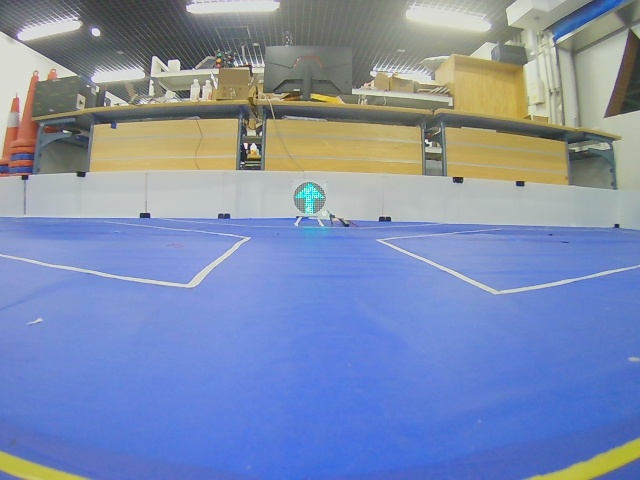straight_green: (293, 182, 326, 215)
